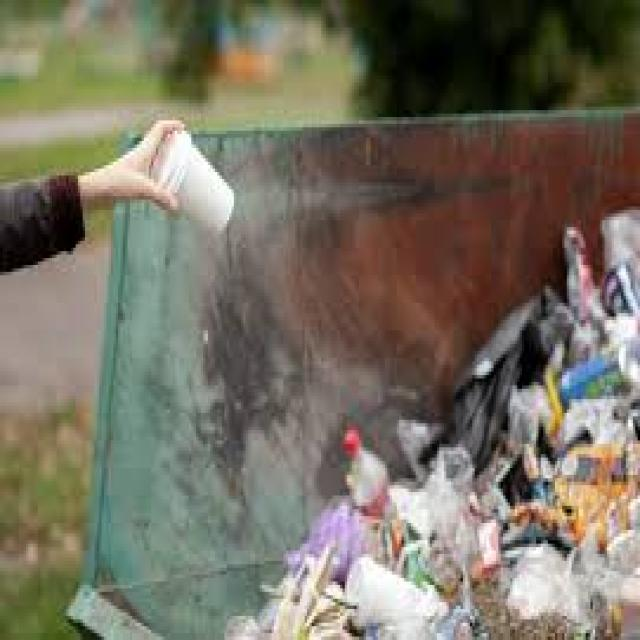metal: (550, 337, 638, 399)
paper: (151, 127, 241, 234)
plastic: (451, 420, 593, 475), (338, 430, 406, 540)
